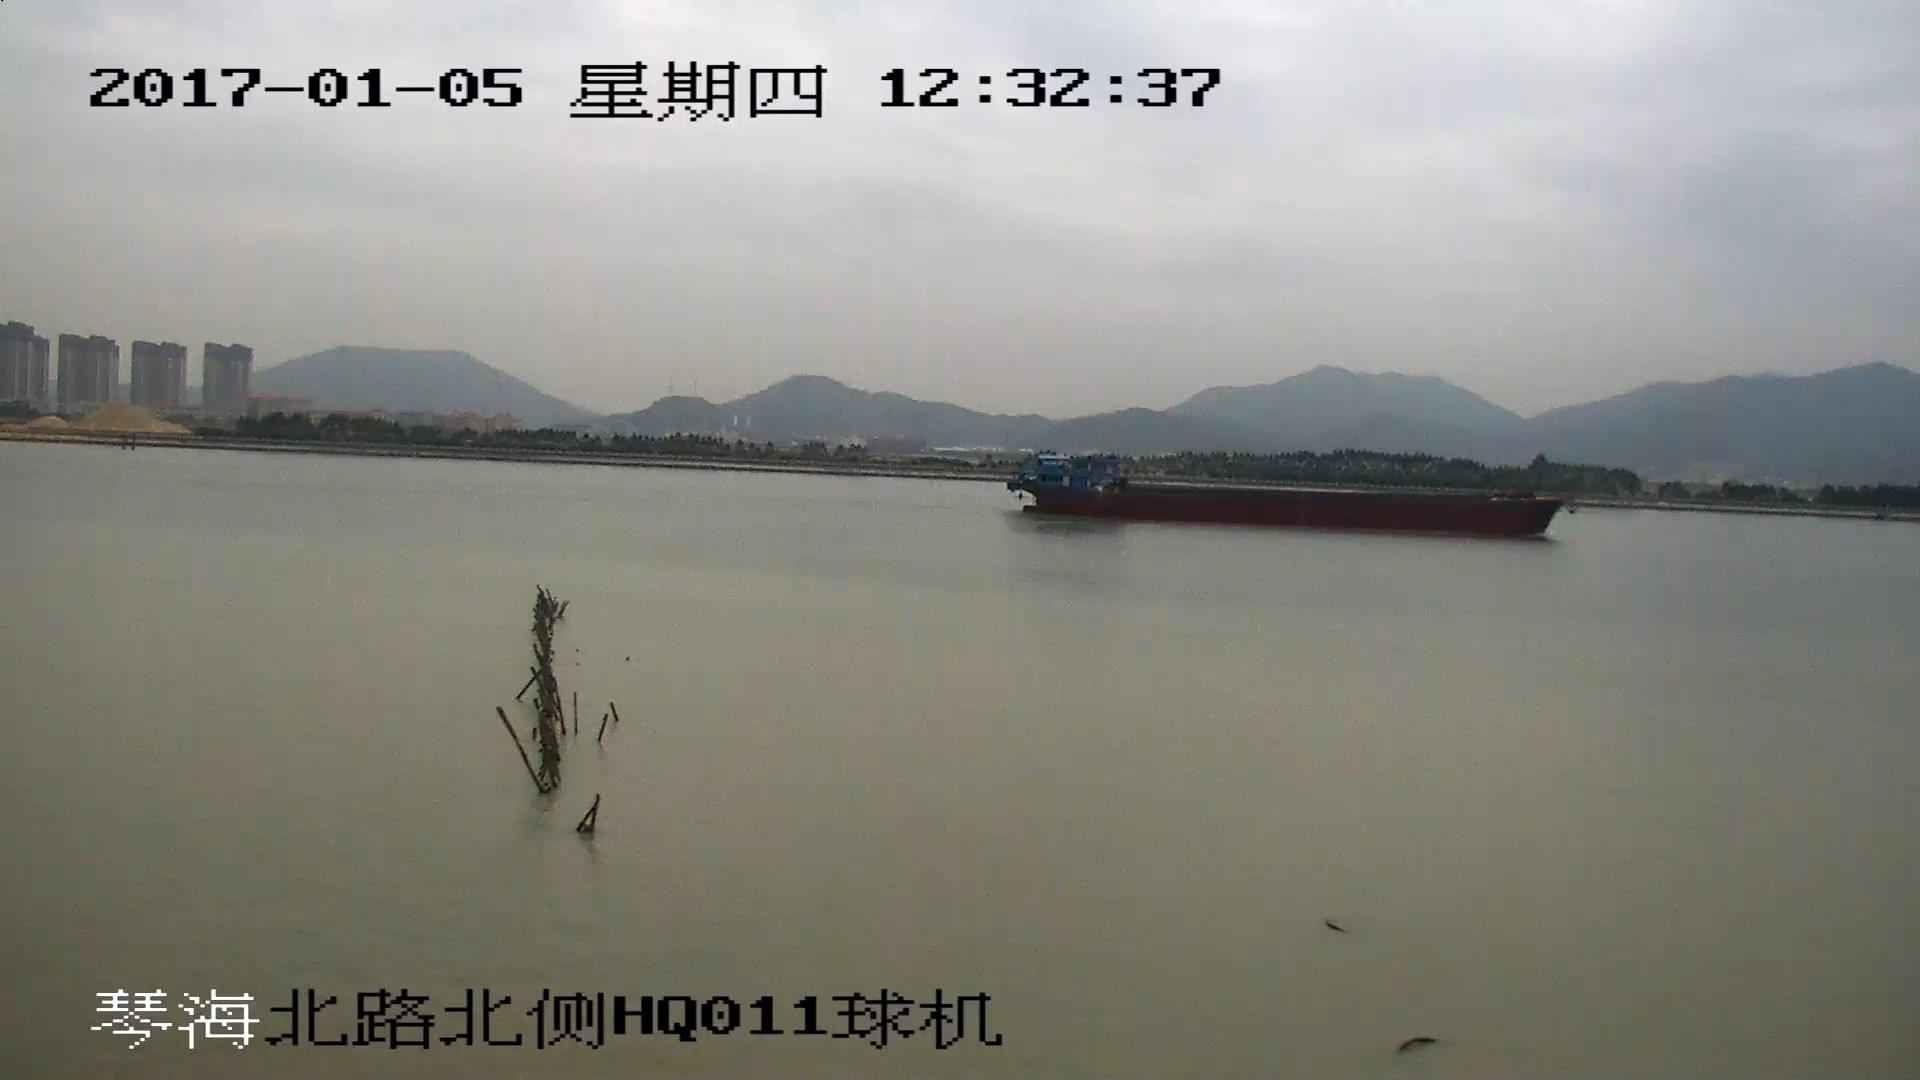bulk cargo carrier: (1009, 454, 1573, 535)
